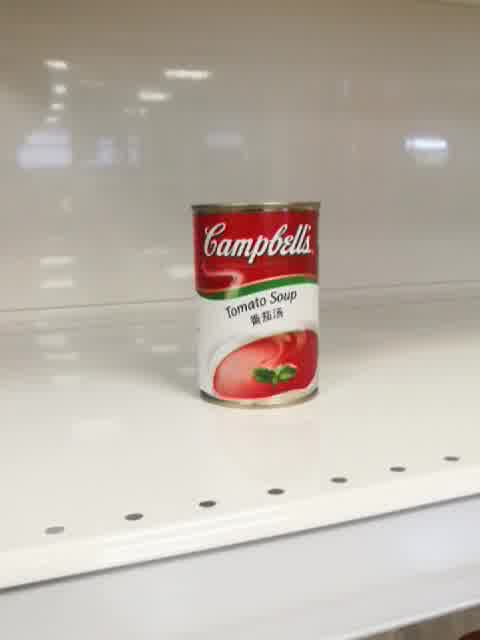tomatosoup: (190, 198, 321, 410)
